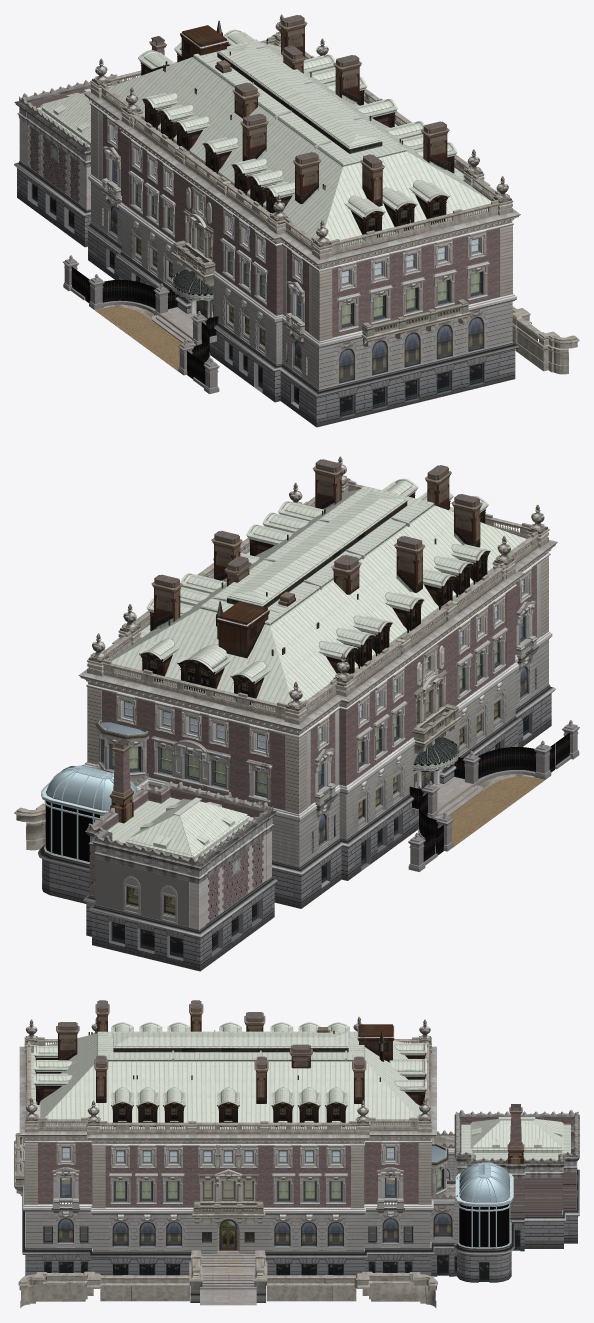
Rendered from cooper-hewitt-exterior-low.glb.
3 renders of one model, top to bottom at view 1: azimuth 30°, elevation 25°; view 2: azimuth 150°, elevation 25°; view 3: azimuth 270°, elevation 25°, orthographic. The views are drawn at different scales.
Visible parts, largest first — view 1: exterior, Plane002, ventana_marco_corner001, rejas, Plane006, Cylinder001; view 2: exterior, Plane002, ventana_marco_corner, rejas, Plane006, Cylinder001; view 3: exterior, Plane002, Plane004.
Boxes of the visible parts, x1,y1,x2,y2 form: exterior: (14, 14, 579, 427); Plane002: (107, 15, 491, 246); ventana_marco_corner001: (304, 226, 497, 291); rejas: (71, 267, 218, 384); Plane006: (232, 82, 259, 118); Cylinder001: (173, 269, 211, 294); exterior: (14, 456, 579, 971); Plane002: (111, 459, 530, 710); ventana_marco_corner: (104, 688, 315, 757); rejas: (409, 733, 569, 861); Plane006: (331, 554, 361, 594); Cylinder001: (414, 737, 457, 763); exterior: (14, 1016, 579, 1307); Plane002: (31, 1000, 425, 1128); Plane004: (289, 1044, 312, 1068).
Bounding box in the file's own units: 37.22 × 24 × 57.54.
Materials: 60 (56 with a texture image).
